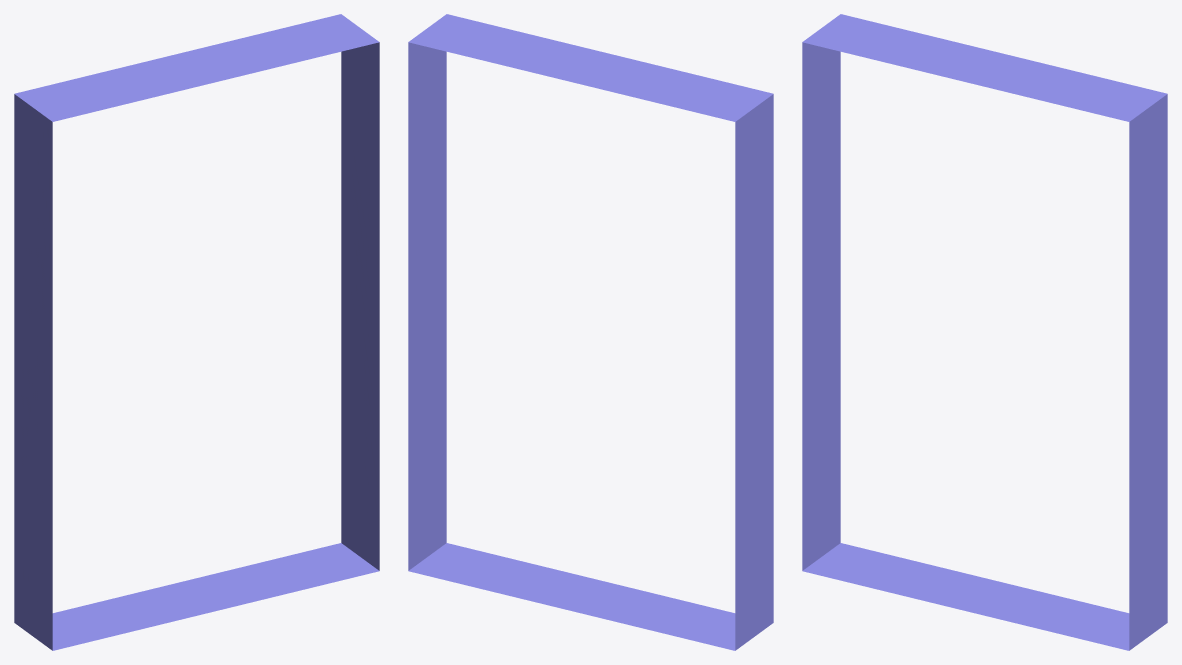
File: original-13.obj
3 views of the same model, side by side, from view 1: azimuth 30°, elevation 25°; view 2: azimuth 150°, elevation 25°; view 3: azimuth 330°, elevation 25° (orthographic).
Visible parts, largest first — view 1: #ID85; view 2: #ID85; view 3: #ID85.
Boxes of the visible parts, x1,y1,x2,y2 form: #ID85: [14, 14, 379, 650]; #ID85: [408, 14, 773, 650]; #ID85: [802, 14, 1167, 650].
Bounding box in the file's own units: 0.523 × 0.8083 × 0.107.
